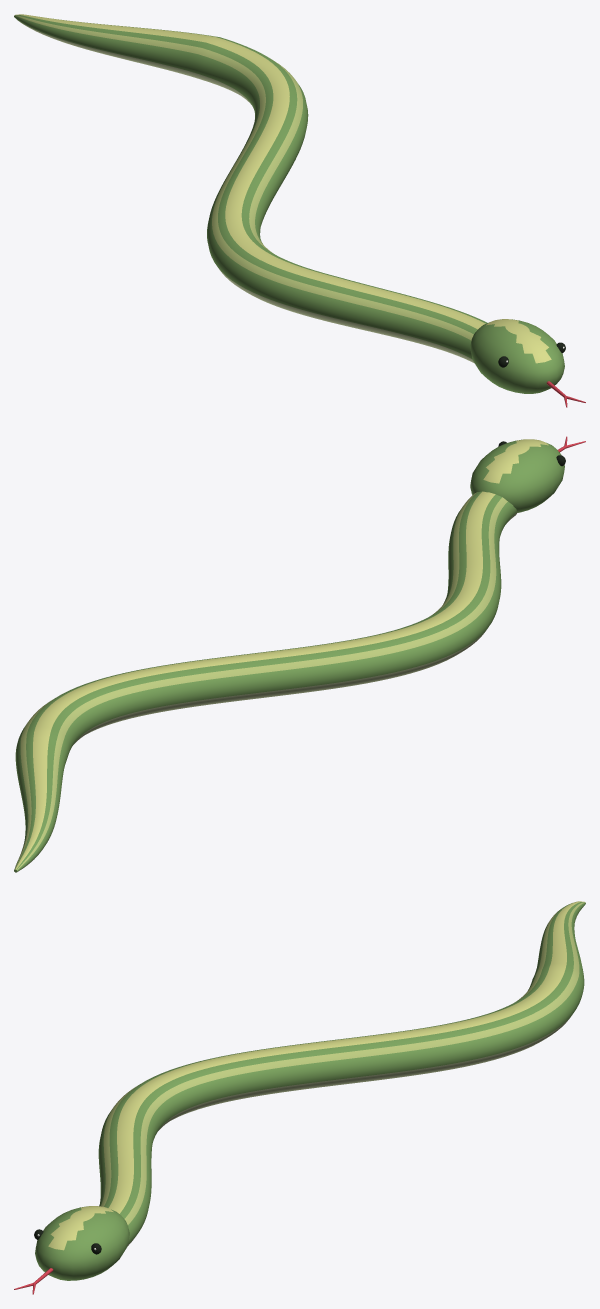
Rendered from garden_snake.glb.
The picture shows the model from 3 angles, top to bottom: view 1: azimuth 30°, elevation 25°; view 2: azimuth 150°, elevation 25°; view 3: azimuth 330°, elevation 25°; orthographic projection.
Parts seen in each view (by area): view 1: Snake_Continuous_Tapering_S_Curve_Body, Snake_Distinct_Rounded_Head; view 2: Snake_Continuous_Tapering_S_Curve_Body, Snake_Distinct_Rounded_Head; view 3: Snake_Continuous_Tapering_S_Curve_Body, Snake_Distinct_Rounded_Head.
Boxes of the visible parts, x1,y1,x2,y2 form: Snake_Continuous_Tapering_S_Curve_Body: (14,14,487,363); Snake_Distinct_Rounded_Head: (470,319,564,393); Snake_Continuous_Tapering_S_Curve_Body: (14,491,518,872); Snake_Distinct_Rounded_Head: (470,439,564,512); Snake_Continuous_Tapering_S_Curve_Body: (98,901,585,1246); Snake_Distinct_Rounded_Head: (35,1206,129,1280).
Bounding box in the file's own units: 0.2333 × 0.052 × 0.9272.
